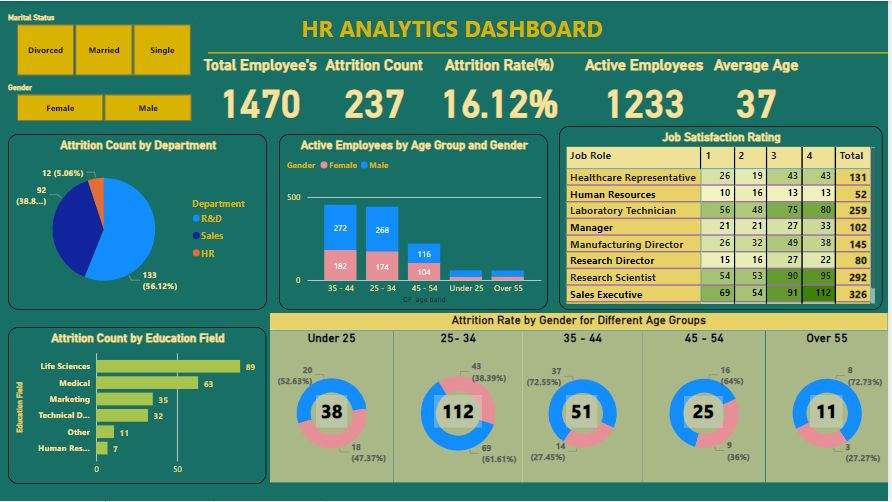

The dashboard page shown, as its layout file describes it:
{"tool":"powerbi","page":{"name":" Dashboard 2","canvas":[1280,720],"ordinal":1},"visuals":[{"type":"card","title":"Total Employee''s","fields":{"Values":["Sum(HR data.Employee Count)"]},"box":[263.5,79.2,225.2,100.7],"z":0,"group":"g1"},{"type":"columnChart","title":"Active Employees by Age Group and Gender","fields":{"Category":["HR data.CF_age band"],"Y":["HR data.Active Employees"],"Series":["HR data.Gender"]},"box":[403.2,191.5,387.4,253.4],"z":0},{"type":"card","title":"Attrition Count","fields":{"Values":["Sum(HR data. Attrition Count)"]},"box":[427,79.2,225.2,100.7],"z":1000,"group":"g1"},{"type":"pieChart","title":"Attrition Count by Department","fields":{"Category":["HR data.Department"],"Y":["Sum(HR data. Attrition Count)"]},"box":[13,191.5,373,253.4],"z":1000},{"type":"card","title":" Attrition Rate(%)","fields":{"Values":["HR data.Attrition Rate"]},"box":[607.5,79.2,225.2,100.7],"z":2000,"group":"g1"},{"type":"clusteredBarChart","title":" Attrition Count by Education Field","fields":{"Y":["Sum(HR data. Attrition Count)"],"Category":["HR data.Education Field"]},"box":[13.4,469.7,372.4,226.5],"z":2000},{"type":"group","id":"g1","title":"Group 1","box":[263.5,79.2,940.3,100.8],"z":3000},{"type":"card","title":" Active Employees","fields":{"Values":["HR data.Active Employees"]},"box":[815.8,79.2,225.2,100.7],"z":3000,"group":"g1"},{"type":"textbox","box":[431.1,11.7,550.2,78.8],"z":4000},{"type":"card","title":"Average Age","fields":{"Values":["Avg(HR data.Age)"]},"box":[977.7,79.2,225.2,100.7],"z":4000,"group":"g1"},{"type":"shape","box":[300.3,0,979.7,149.3],"z":5000},{"type":"pivotTable","title":"Job Satisfaction Rating","fields":{"Rows":["HR data.Job Role"],"Columns":["HR data.Job Satisfaction"],"Values":["Sum(HR data.Employee Count)"]},"box":[806.9,179.5,466.4,265.1],"z":6000},{"type":"donutChart","title":" Under 25","fields":{"Category":["HR data.Gender"],"Y":["Sum(HR data. Attrition Count)"],"Series":["HR data.CF_age band"]},"box":[390.9,474.8,177.8,218.1],"z":7000},{"type":"textbox","title":"Attrition Rate by Gender for Different Age Groups","box":[390.9,449.6,889.1,25.2],"z":8000},{"type":"donutChart","title":"25- 34","fields":{"Category":["HR data.Gender"],"Y":["Sum(HR data. Attrition Count)"],"Series":["HR data.CF_age band"]},"box":[568.7,474.8,184.5,218.1],"z":9000},{"type":"donutChart","title":"35 - 44","fields":{"Category":["HR data.Gender"],"Y":["Sum(HR data. Attrition Count)"],"Series":["HR data.CF_age band"]},"box":[753.2,474.8,174.5,218.1],"z":10000},{"type":"donutChart","title":"45 - 54","fields":{"Category":["HR data.Gender"],"Y":["Sum(HR data. Attrition Count)"],"Series":["HR data.CF_age band"]},"box":[927.7,474.8,176.1,218.1],"z":11000},{"type":"donutChart","title":"Over 55","fields":{"Category":["HR data.Gender"],"Y":["Sum(HR data. Attrition Count)"],"Series":["HR data.CF_age band"]},"box":[1103.9,474.8,176.1,218.1],"z":12000},{"type":"card","fields":{"Values":["Sum(HR data. Attrition Count)"]},"box":[456.3,567,45.3,47],"z":13000},{"type":"card","fields":{"Values":["Sum(HR data. Attrition Count)"]},"box":[625.7,567,68.8,47],"z":14000},{"type":"card","fields":{"Values":["Sum(HR data. Attrition Count)"]},"box":[817,567,45.3,47],"z":15000},{"type":"card","fields":{"Values":["Sum(HR data. Attrition Count)"]},"box":[986.4,568.8,56.2,46.1],"z":16000},{"type":"card","fields":{"Values":["Sum(HR data. Attrition Count)"]},"box":[1167.6,567,47,47],"z":17000},{"type":"slicer","fields":{"Values":["HR data.Gender"]},"box":[0,113.8,301,66.2],"z":17001},{"type":"slicer","fields":{"Values":["HR data.Marital Status"]},"box":[0,13.4,300.3,100.7],"z":17002}]}

Visuals, with their boxes in screenshot pixels (x1, y1, x2, y2), scaled from the page's 1280x720 canvas onto the 892x502 screenshot:
"Total Employee''s" card: (184,55,341,125)
"Active Employees by Age Group and Gender" columnChart: (281,134,551,310)
"Attrition Count" card: (298,55,455,125)
"Attrition Count by Department" pieChart: (9,134,269,310)
" Attrition Rate(%)" card: (423,55,580,125)
" Attrition Count by Education Field" clusteredBarChart: (9,327,269,485)
"Group 1" group: (184,55,839,126)
" Active Employees" card: (569,55,725,125)
textbox: (300,8,684,63)
"Average Age" card: (681,55,838,125)
shape: (209,0,891,104)
"Job Satisfaction Rating" pivotTable: (562,125,887,310)
" Under 25" donutChart: (272,331,396,483)
"Attrition Rate by Gender for Different Age Groups" textbox: (272,313,891,331)
"25- 34" donutChart: (396,331,525,483)
"35 - 44" donutChart: (525,331,646,483)
"45 - 54" donutChart: (646,331,769,483)
"Over 55" donutChart: (769,331,891,483)
card - Sum(HR data. Attrition Count): (318,395,350,428)
card - Sum(HR data. Attrition Count): (436,395,484,428)
card - Sum(HR data. Attrition Count): (569,395,601,428)
card - Sum(HR data. Attrition Count): (687,397,727,429)
card - Sum(HR data. Attrition Count): (814,395,846,428)
slicer - HR data.Gender: (0,79,210,126)
slicer - HR data.Marital Status: (0,9,209,80)
